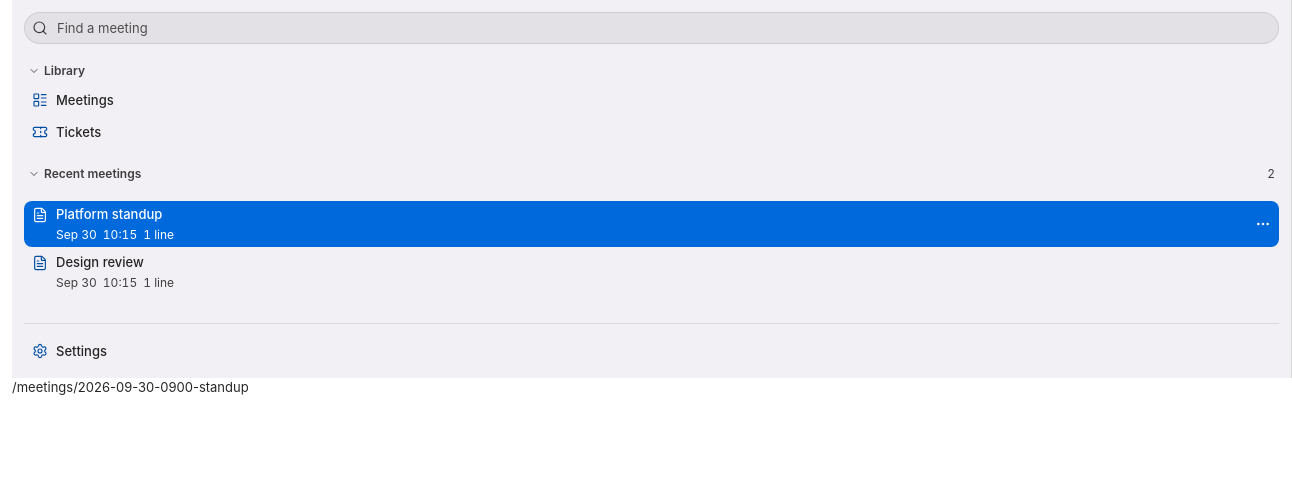
Test: the meeting row menu (TUR-116) › Delete, confirmed, moves it to the Trash and drops it from the list
Click the button named "More actions for Platform standup" at (1263,224), box [1251,212,1275,236]
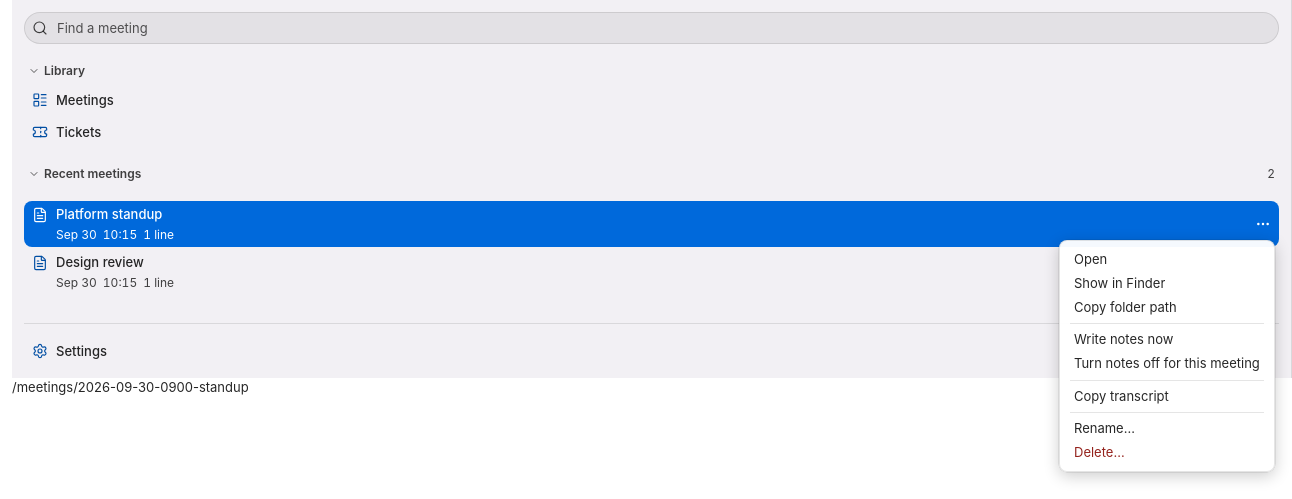
Check: the menu is shown, box [1059,240,1275,472]
Click the menu item "Delete…" at (1099,452), box [1074,444,1125,460]
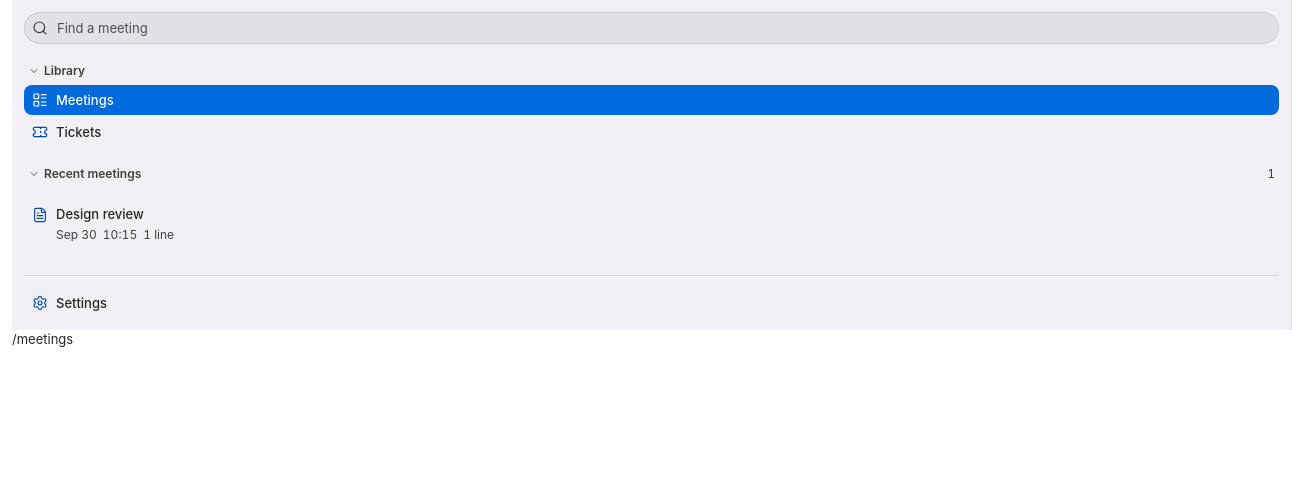
Check: the text "Design review" is shown, box [56,206,144,222]
Check: the button "Platform standup" is gone
Check: the text with test id "where" reads "/meetings", box [12,331,73,347]
